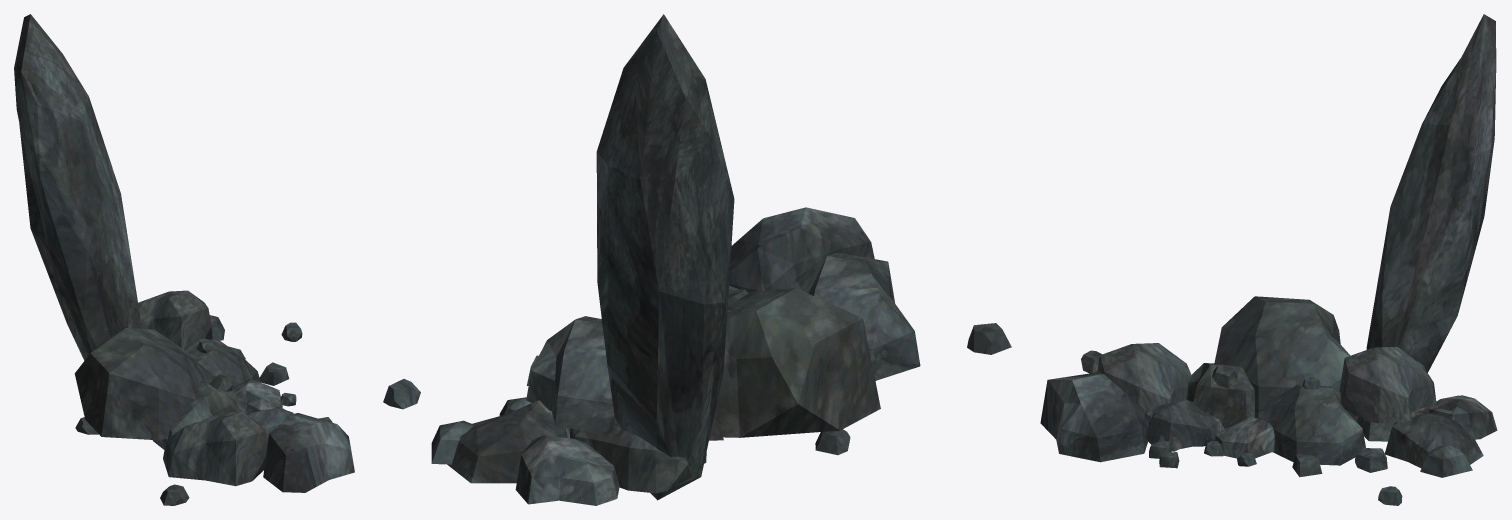
The model's file is object_rubble12.fbx.
3 renders of one model, left to right at view 1: azimuth 30°, elevation 25°; view 2: azimuth 150°, elevation 25°; view 3: azimuth 270°, elevation 25°, orthographic. The views are drawn at different scales.
Parts seen in each view (by area): view 1: obj1.023; view 2: obj1.023; view 3: obj1.023.
Boxes of the visible parts, x1,y1,x2,y2 form: obj1.023: [14, 14, 354, 505]; obj1.023: [383, 14, 1011, 505]; obj1.023: [1040, 14, 1497, 505].
Bounding box in the file's own units: 8.82 × 11.13 × 11.65.
